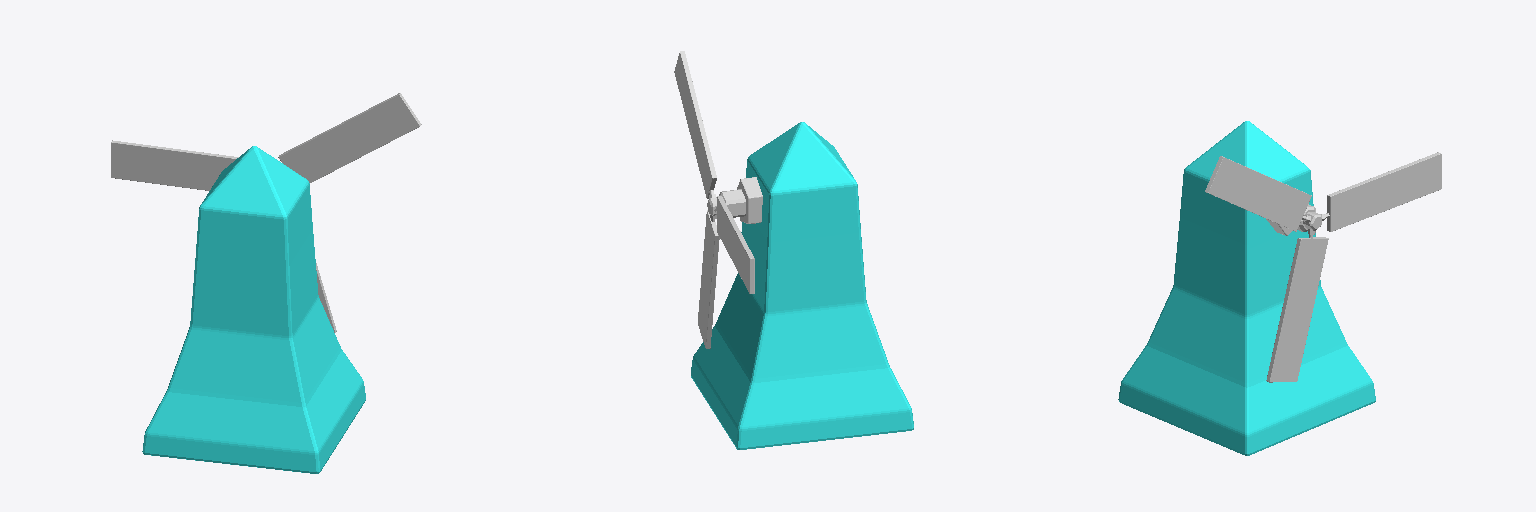
Rendered from wind.obj.
The picture shows the model from 3 angles: view 1: azimuth 30°, elevation 25°; view 2: azimuth 150°, elevation 25°; view 3: azimuth 270°, elevation 25°; orthographic projection.
Parts seen in each view (by area): view 1: pCylinder1 wind, wind pCube1, wind pCube2; view 2: pCylinder1 wind, wind pCube1, wind pCube3, wind pCube2, wind pCylinder2; view 3: pCylinder1 wind, wind pCube3, wind pCube2, wind pCube1.
Part boxes in pixels (left/top/right/bottom): pCylinder1 wind: left=142, top=146, right=365, bottom=473; wind pCube1: left=278, top=93, right=421, bottom=182; wind pCube2: left=111, top=140, right=238, bottom=190; pCylinder1 wind: left=691, top=122, right=913, bottom=449; wind pCube1: left=674, top=51, right=716, bottom=198; wind pCube3: left=698, top=210, right=719, bottom=348; wind pCube2: left=717, top=196, right=754, bottom=293; wind pCylinder2: left=737, top=177, right=762, bottom=223; pCylinder1 wind: left=1118, top=121, right=1375, bottom=455; wind pCube3: left=1266, top=237, right=1328, bottom=382; wind pCube2: left=1327, top=152, right=1441, bottom=231; wind pCube1: left=1205, top=156, right=1311, bottom=231.
Size of the model in its own units: 8.01 by 9.19 by 8.65.